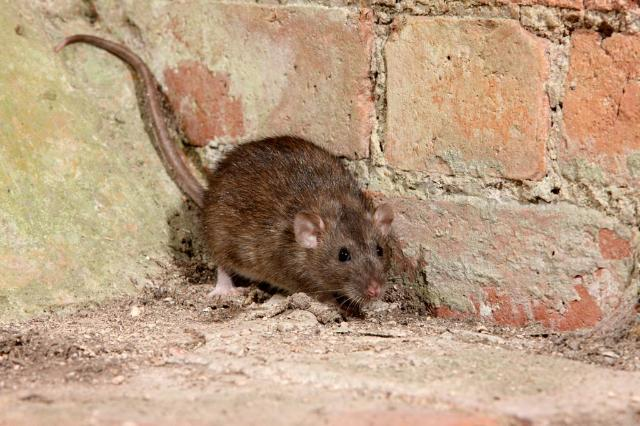rat: (128, 98, 408, 330)
